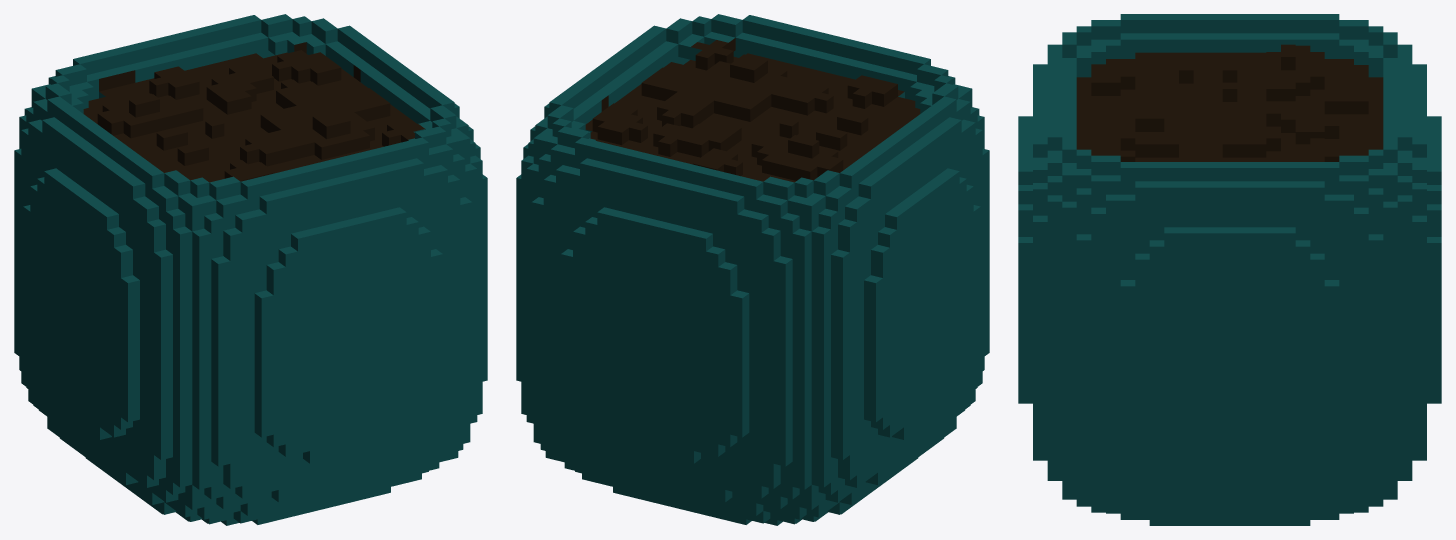
Rendered from Vaso.fbx.
3 renders of one model, left to right at view 1: azimuth 30°, elevation 25°; view 2: azimuth 150°, elevation 25°; view 3: azimuth 270°, elevation 25°, orthographic. The views are drawn at different scales.
Parts seen in each view (by area): view 1: Vaso; view 2: Vaso; view 3: Vaso.
Part boxes in pixels (bbox=[...]): Vaso: bbox=[14, 14, 487, 525]; Vaso: bbox=[516, 14, 989, 525]; Vaso: bbox=[1018, 14, 1441, 525].
Bounding box in the file's own units: 217 × 217 × 217.
